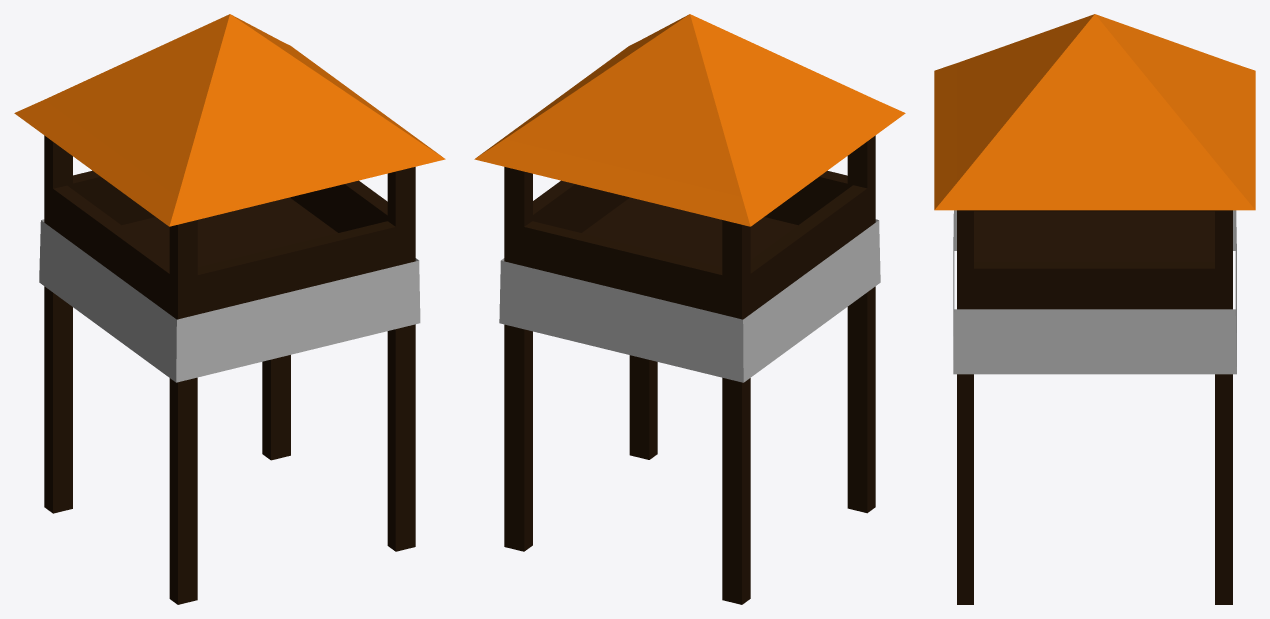
The model's file is tower.obj.
3 views of the same model, side by side, from view 1: azimuth 30°, elevation 25°; view 2: azimuth 150°, elevation 25°; view 3: azimuth 270°, elevation 25° (orthographic). The views are drawn at different scales.
Visible parts, largest first — view 1: Cube.009; view 2: Cube.009; view 3: Cube.009.
Boxes of the visible parts, x1=… form: Cube.009: x1=14, y1=14, x2=445, y2=604; Cube.009: x1=474, y1=14, x2=905, y2=604; Cube.009: x1=934, y1=14, x2=1255, y2=604.
Size of the model in its own units: 3.85 by 6.83 by 3.74.
